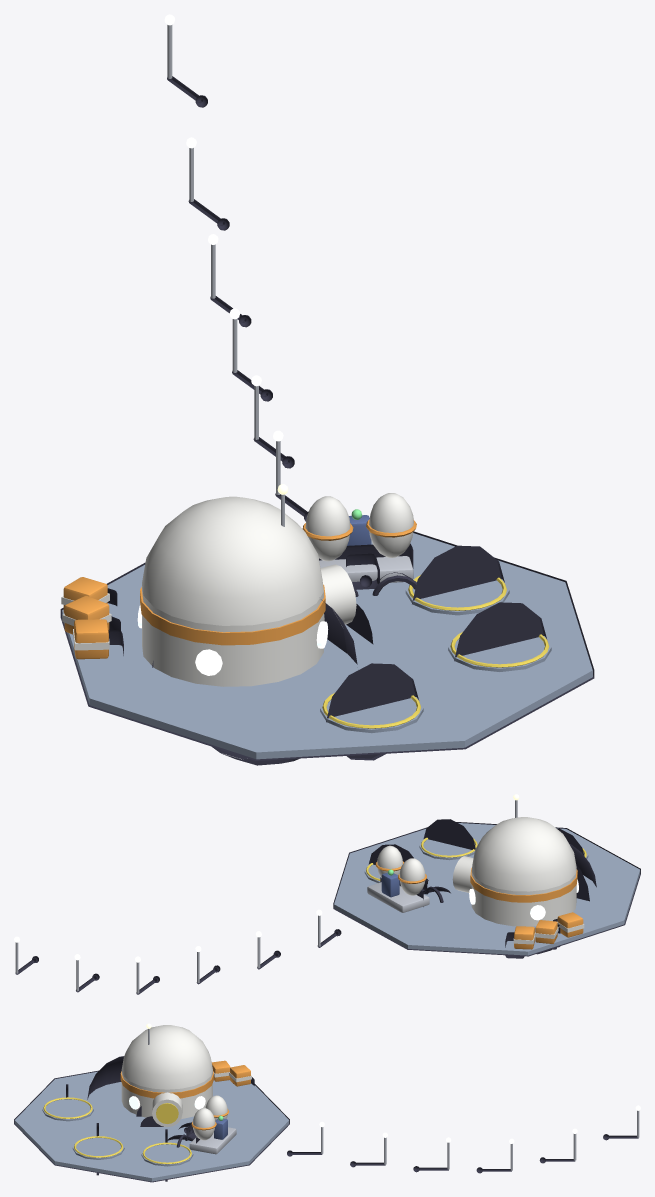
Rendered from Zona_Base.fbx.
3 renders of one model, top to bottom at view 1: azimuth 30°, elevation 25°; view 2: azimuth 150°, elevation 25°; view 3: azimuth 270°, elevation 25°, orthographic. The views are drawn at different scales.
Parts seen in each view (by area): view 1: Base_Plataforma, Hab_Cupula, Hab_Cuerpo, Pad.001_Contorno, Pad_Contorno, Pad.002_Contorno, Hab_Franja, Gen_Tanque1, Gen_Tanque0, Base_Plataforma_Contorno, Pad.001, Pad (+4 smaller); view 2: Base_Plataforma, Hab_Cupula, Hab_Cuerpo, Pad_Contorno, Base_Plataforma_Contorno, Hab_Franja, Gen_Base, Gen_Tanque0, Pad, Hab_Esclusa, Gen_Tanque1, Caja.001 (+6 smaller); view 3: Base_Plataforma, Hab_Cupula, Hab_Cuerpo, Pad.002, Pad.001, Pad, Hab_Cupula_Contorno, Base_Plataforma_Contorno, Hab_Franja, Gen_Base, Gen_Tanque1, Hab_Esclusa (+8 smaller).
Part boxes in pixels (left/top/right/bottom): Base_Plataforma: left=62, top=533, right=592, bottom=759; Hab_Cupula: left=142, top=496, right=323, bottom=625; Hab_Cuerpo: left=142, top=586, right=323, bottom=686; Pad.001_Contorno: left=326, top=663, right=418, bottom=760; Pad_Contorno: left=454, top=602, right=546, bottom=661; Pad.002_Contorno: left=412, top=545, right=504, bottom=604; Hab_Franja: left=140, top=584, right=325, bottom=645; Gen_Tanque1: left=369, top=493, right=413, bottom=557; Gen_Tanque0: left=305, top=496, right=350, bottom=561; Base_Plataforma_Contorno: left=60, top=531, right=594, bottom=760; Pad.001: left=320, top=696, right=423, bottom=733; Pad: left=448, top=635, right=551, bottom=671; Base_Plataforma: left=334, top=823, right=640, bottom=955; Hab_Cupula: left=471, top=817, right=576, bottom=891; Hab_Cuerpo: left=471, top=868, right=576, bottom=926; Pad_Contorno: left=423, top=819, right=475, bottom=849; Base_Plataforma_Contorno: left=333, top=822, right=640, bottom=956; Hab_Franja: left=470, top=868, right=577, bottom=902; Gen_Base: left=367, top=882, right=429, bottom=912; Gen_Tanque0: left=399, top=858, right=425, bottom=895; Pad: left=419, top=839, right=478, bottom=860; Hab_Esclusa: left=452, top=856, right=473, bottom=892; Gen_Tanque1: left=377, top=845, right=402, bottom=877; Caja.001: left=557, top=912, right=583, bottom=937; Base_Plataforma: left=14, top=1071, right=289, bottom=1181; Hab_Cupula: left=121, top=1025, right=212, bottom=1089; Hab_Cuerpo: left=121, top=1071, right=212, bottom=1118; Pad.002: left=141, top=1144, right=193, bottom=1166; Pad.001: left=42, top=1099, right=93, bottom=1121; Pad: left=72, top=1138, right=124, bottom=1159; Hab_Cupula_Contorno: left=87, top=1056, right=123, bottom=1099; Base_Plataforma_Contorno: left=14, top=1070, right=289, bottom=1182; Hab_Franja: left=120, top=1071, right=213, bottom=1098; Gen_Base: left=189, top=1127, right=236, bottom=1154; Gen_Tanque1: left=192, top=1108, right=215, bottom=1140; Hab_Esclusa: left=152, top=1092, right=182, bottom=1127.
Size of the model in its own units: 21.67 by 9.89 by 41.08.
